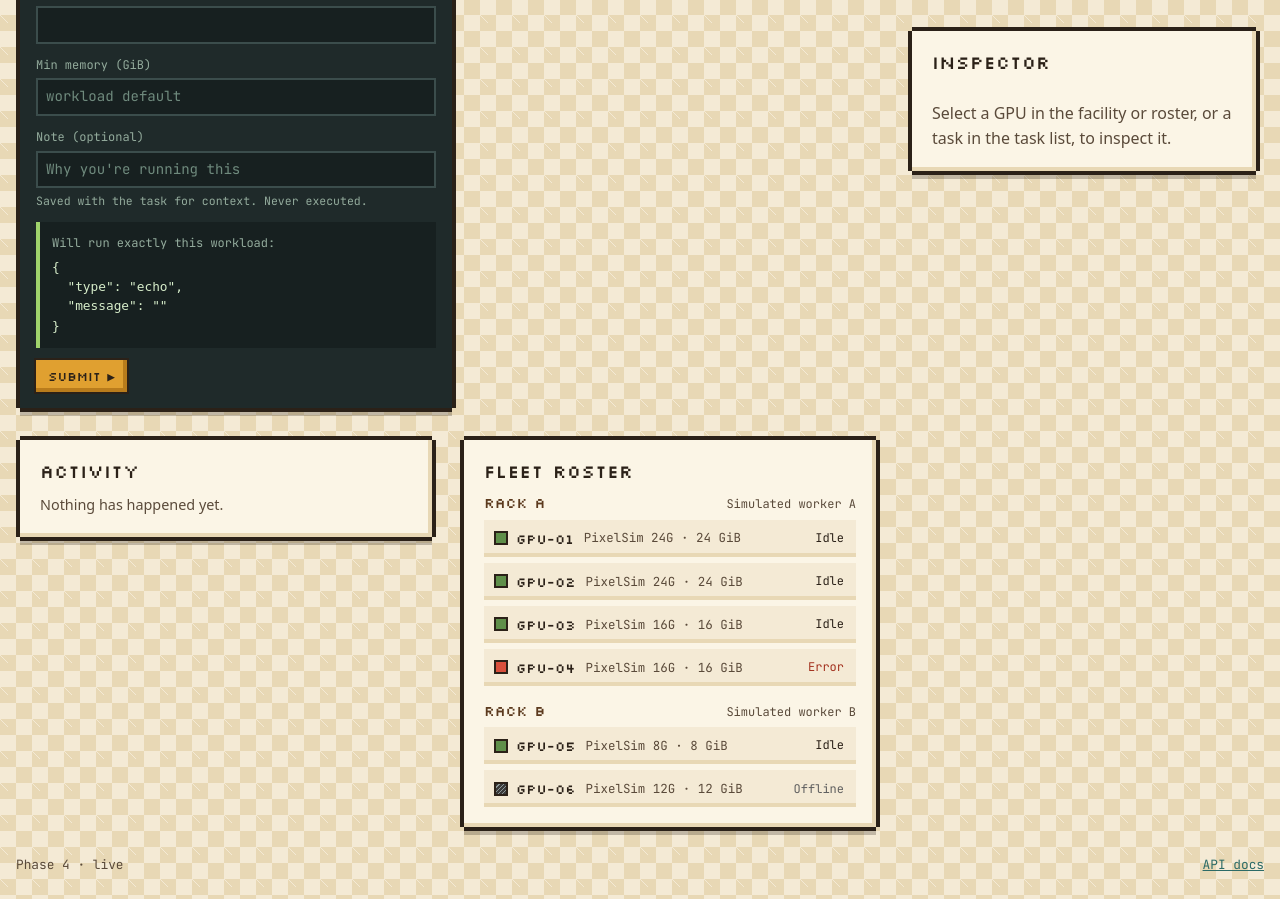
Test case: control room › keeps the roster and inspector usable when the scene fails
(page scrolled)
Step 1. Click the button "GPU-03 PixelSim 16G · 16 GiB Idle" → coordinates (670, 624), box [484,606,856,643]
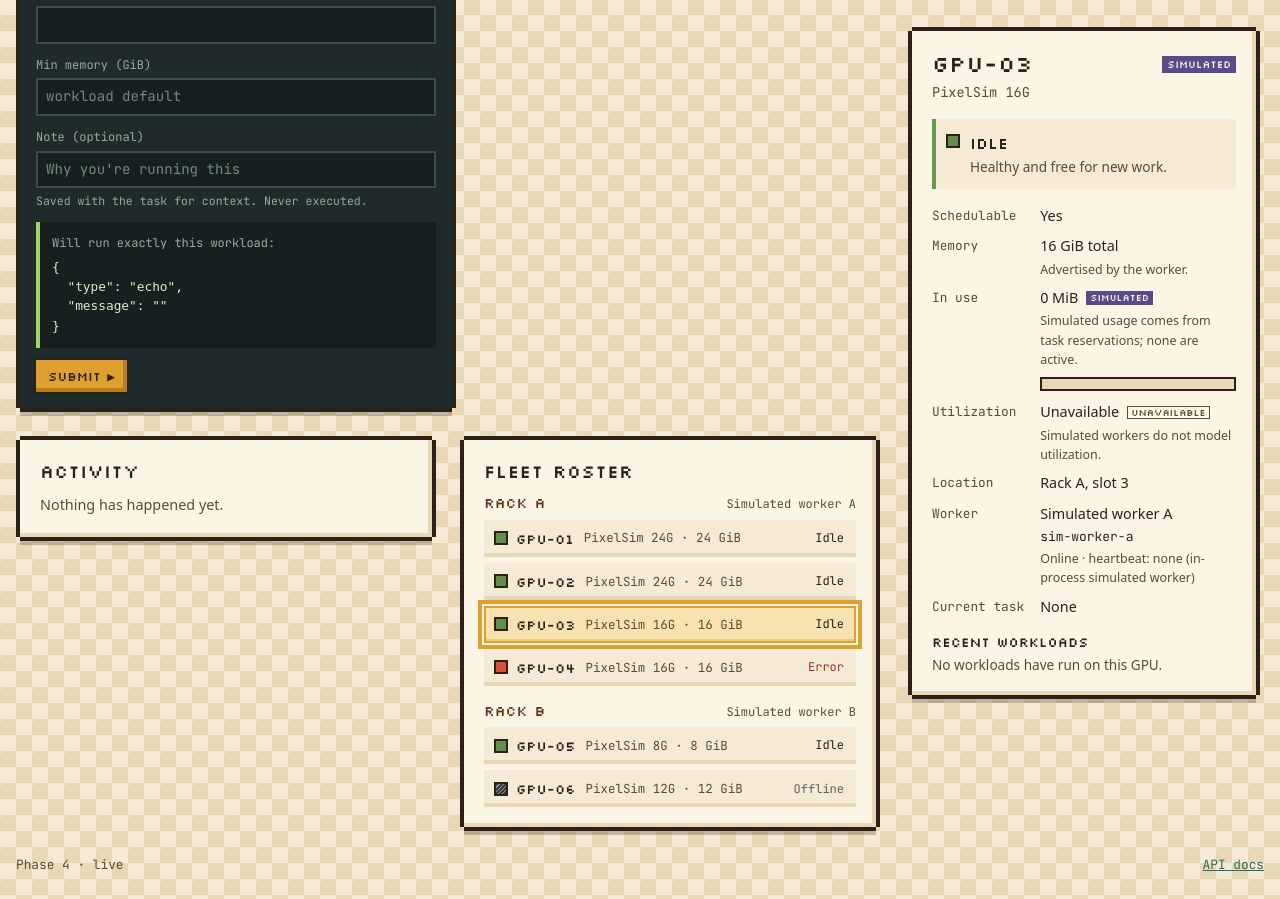
expect the heading "GPU-03" is shown: met, box [932,51,1033,78]
